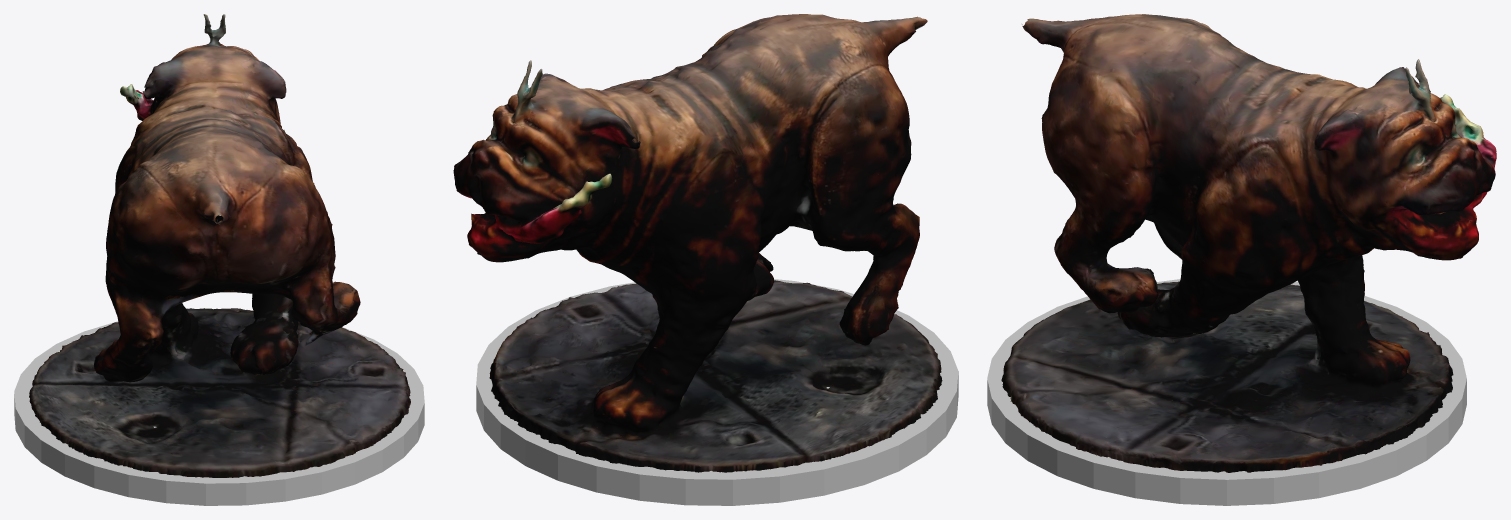
The picture shows the model from 3 angles, left to right: view 1: azimuth 30°, elevation 25°; view 2: azimuth 150°, elevation 25°; view 3: azimuth 270°, elevation 25°; orthographic projection. The views are drawn at different scales.
Parts seen in each view (by area): view 1: lockjaw, default; view 2: lockjaw, default; view 3: lockjaw, default.
Boxes of the visible parts, left/top/right/bottom form: lockjaw: left=29, top=14, right=410, bottom=477; default: left=14, top=321, right=424, bottom=505; lockjaw: left=453, top=14, right=942, bottom=472; default: left=476, top=279, right=958, bottom=505; lockjaw: left=1001, top=14, right=1496, bottom=472; default: left=987, top=279, right=1466, bottom=505.
Size of the model in its own units: 1.97 by 1.73 by 2.09.
2 materials, 1 textured.
